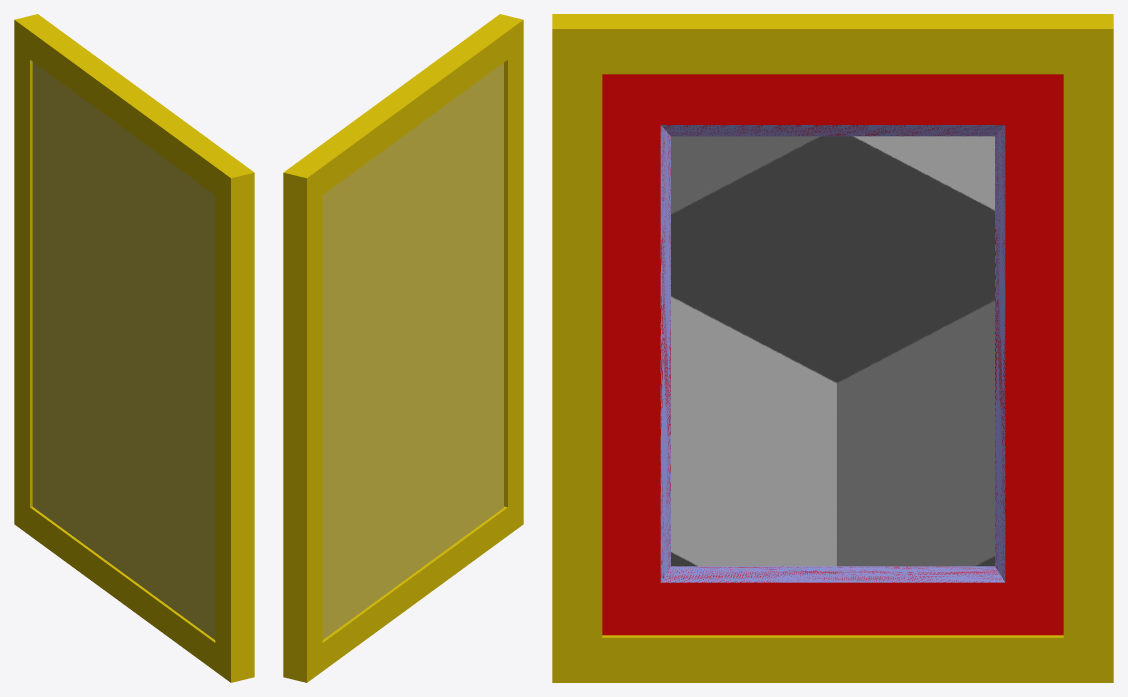
Rendered from cadrePP.gltf.
3 renders of one model, left to right at view 1: azimuth 30°, elevation 25°; view 2: azimuth 150°, elevation 25°; view 3: azimuth 270°, elevation 25°, orthographic. The views are drawn at different scales.
Parts seen in each view (by area): view 1: group_0, group_2, group_2.001; view 2: group_0, group_2, group_2.001; view 3: IMPRESSION, group_2, group_3, group_4, group_2.001.
Boxes of the visible parts, x1,y1,x2,y2 form: group_0: (32,62,215,639); group_2: (14,14,254,682); group_2.001: (30,60,215,642); group_0: (322,63,503,639); group_2: (283,14,523,682); group_2.001: (322,60,507,642); IMPRESSION: (671,136,994,566); group_2: (552,14,1113,682); group_3: (602,74,1063,635); group_4: (660,125,1005,582); group_2.001: (602,635,1063,637).
Size of the model in its own units: 0.026 by 0.5324 by 0.4143.
Materials: 5 (1 with a texture image).
